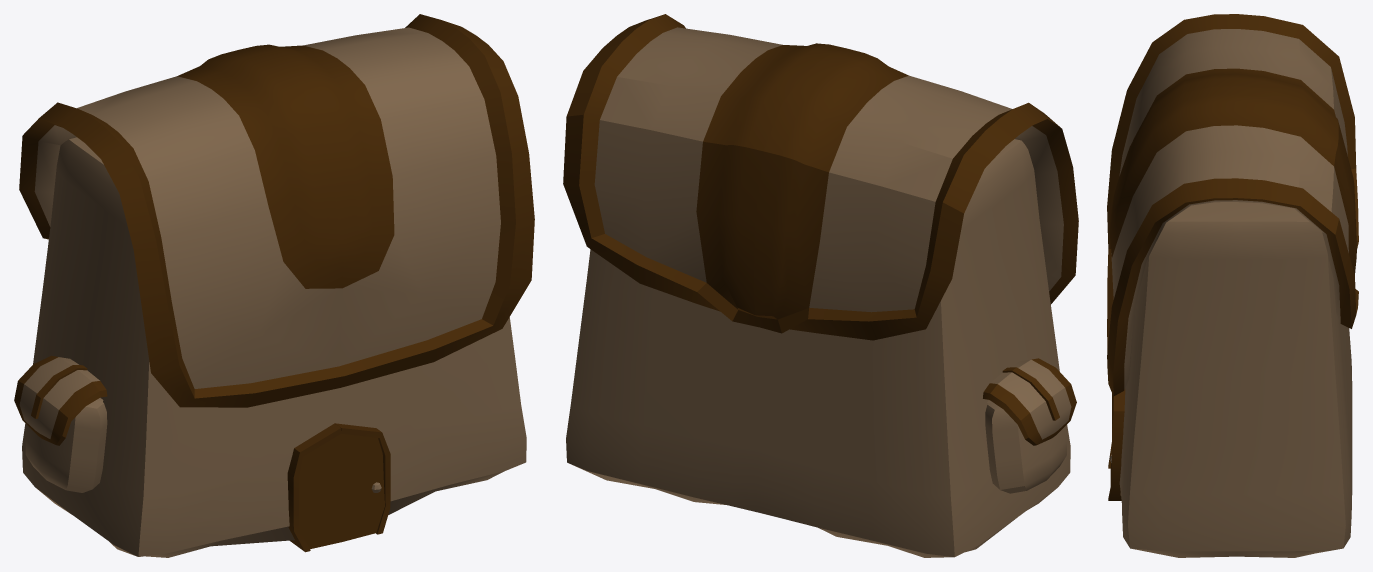
File: CardStore.fbx
3 renders of one model, left to right at view 1: azimuth 30°, elevation 25°; view 2: azimuth 150°, elevation 25°; view 3: azimuth 270°, elevation 25°, orthographic. The views are drawn at different scales.
Parts seen in each view (by area): view 1: Cube; view 2: Cube; view 3: Cube.
Part boxes in pixels (bbox=[...]): Cube: bbox=[14, 14, 534, 557]; Cube: bbox=[563, 14, 1078, 557]; Cube: bbox=[1107, 14, 1358, 557].
Size of the model in its own units: 2179 by 2024 by 1163.
